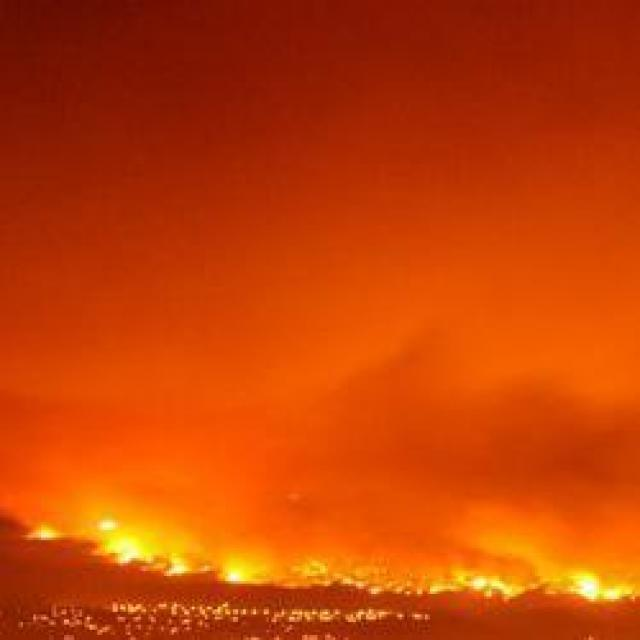Fire: (47, 501, 300, 608), (399, 534, 640, 618)
